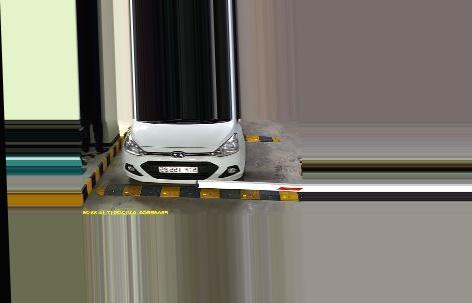License_Plate: (159, 163, 199, 175)
